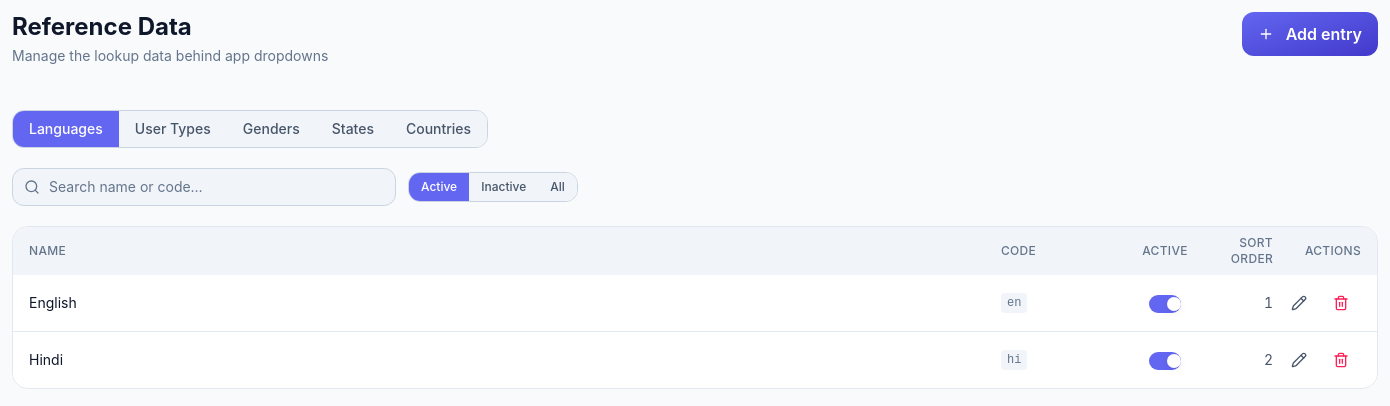
Scenario: ReferenceDataPage › Inactive filter shows only inactive items
Check: the text "English" is shown, box top-left (29, 294), bottom-right (77, 311)
Step 1. Click the radio button labelled "Inactive" → (504, 187), box top-left (469, 173), bottom-right (538, 201)
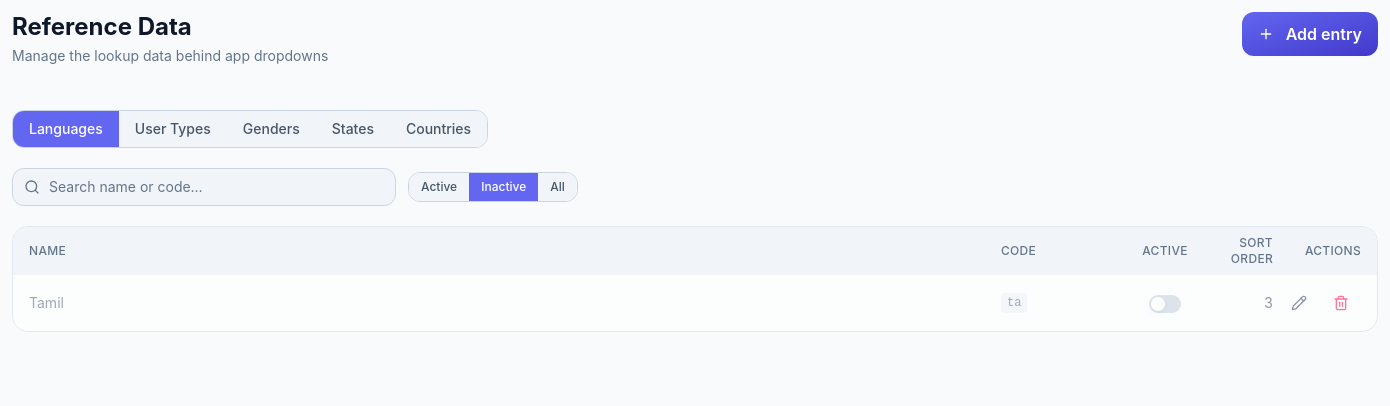
Check: the text "English" is gone
Check: the text "Tamil" is shown, box top-left (29, 294), bottom-right (64, 311)
